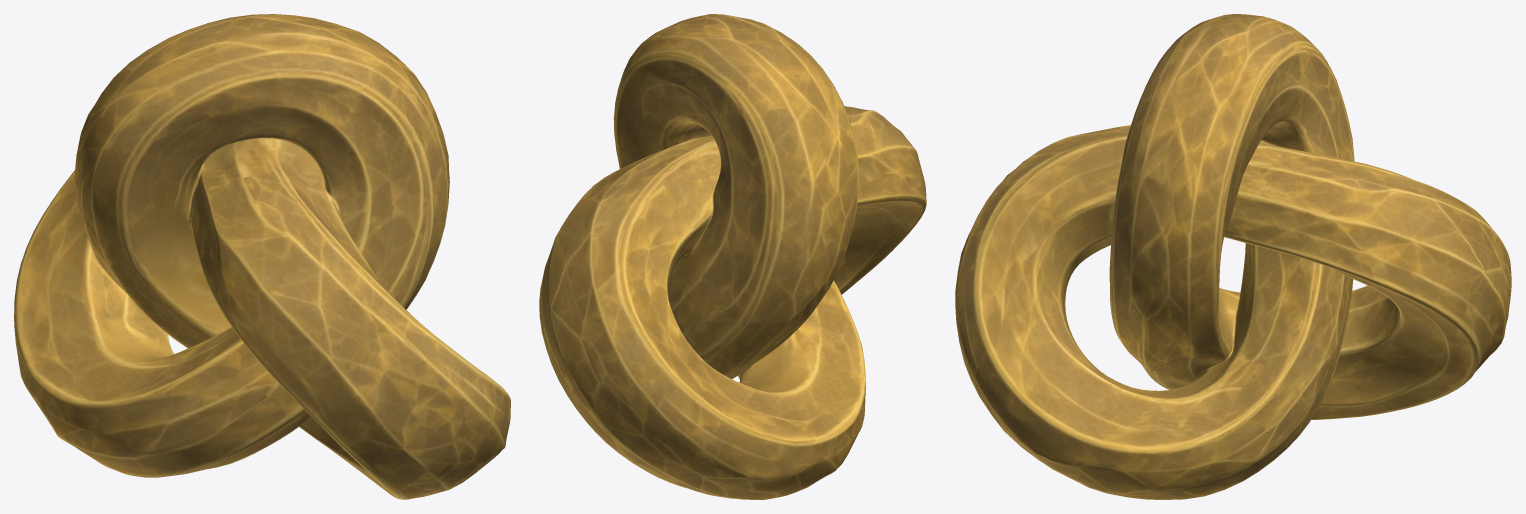
The model's file is bonus_special_MIDHIGH_20k.fbx.
The picture shows the model from 3 angles, left to right: view 1: azimuth 30°, elevation 25°; view 2: azimuth 150°, elevation 25°; view 3: azimuth 270°, elevation 25°; orthographic projection. The views are drawn at different scales.
Visible parts, largest first — view 1: HIGH; view 2: HIGH; view 3: HIGH.
Part boxes in pixels (bbox=[...]): HIGH: bbox=[14, 14, 510, 499]; HIGH: bbox=[539, 14, 926, 499]; HIGH: bbox=[955, 14, 1511, 499].
Bounding box in the file's own units: 1.23 × 1.58 × 1.9.
1 material, 1 textured.
